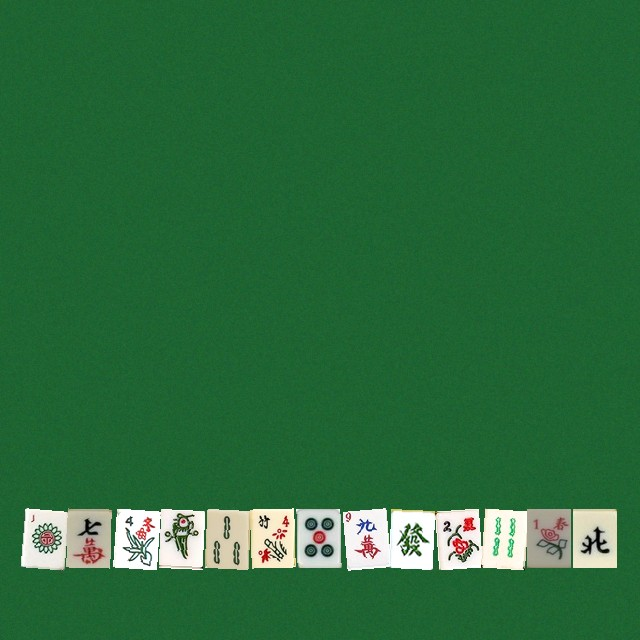tile: (20, 508, 64, 567), (66, 508, 110, 567), (112, 508, 156, 567), (158, 508, 202, 567), (204, 508, 248, 567), (250, 508, 294, 567), (296, 508, 340, 567), (342, 508, 386, 567), (388, 508, 432, 567), (434, 508, 478, 567), (480, 508, 524, 567), (526, 508, 570, 567), (572, 508, 616, 567)
